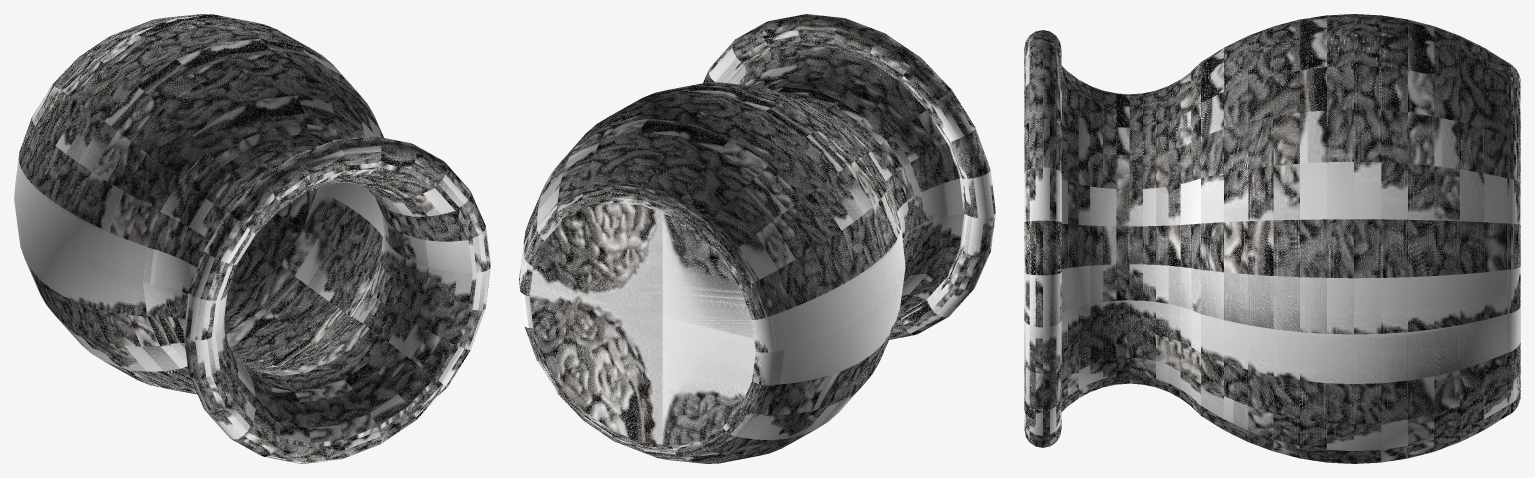
File: model_scale.obj
The picture shows the model from 3 angles, left to right: view 1: azimuth 30°, elevation 25°; view 2: azimuth 150°, elevation 25°; view 3: azimuth 270°, elevation 25°; orthographic projection. The views are drawn at different scales.
Visible parts, largest first — view 1: mesh1_mesh1-geometry; view 2: mesh1_mesh1-geometry; view 3: mesh1_mesh1-geometry.
Boxes of the visible parts, box(x1,y1,x2,y2) form: mesh1_mesh1-geometry: box(14, 14, 490, 463); mesh1_mesh1-geometry: box(519, 14, 995, 463); mesh1_mesh1-geometry: box(1024, 14, 1520, 463).
Size of the model in its own units: 0.162 by 0.162 by 0.1781.
